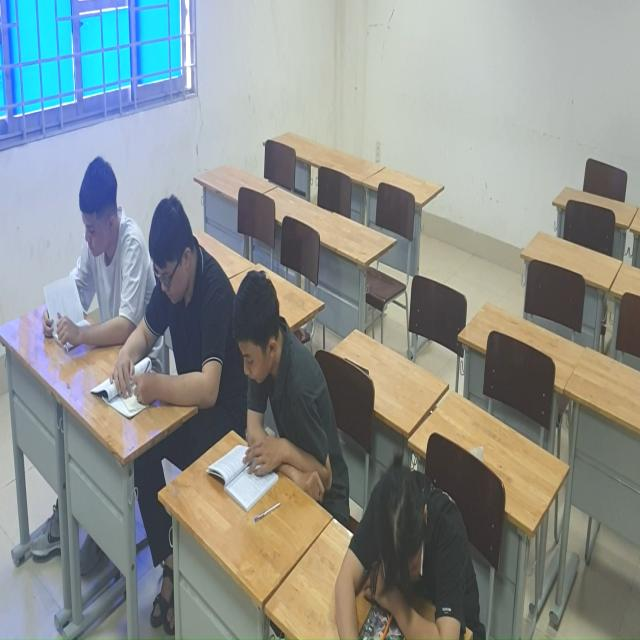read: (207, 274, 331, 518), (113, 184, 225, 431), (41, 153, 145, 363)
sleep: (332, 455, 504, 640)
